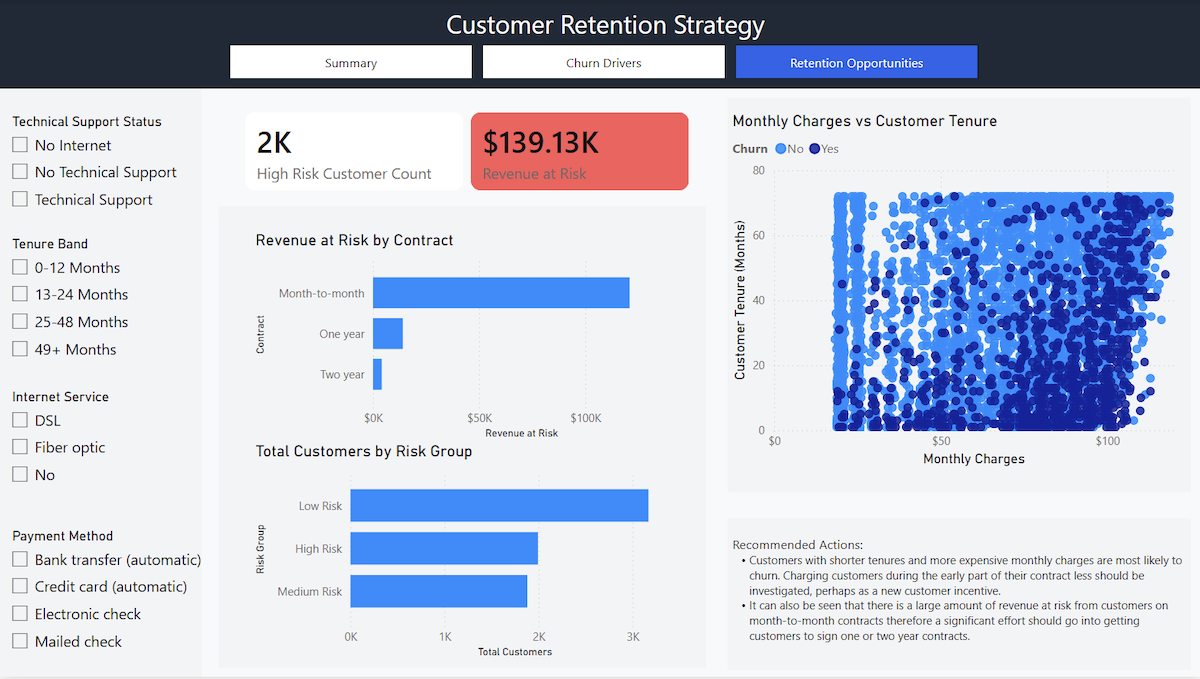

What the dashboard file says about the page in this screenshot:
{"tool":"powerbi","page":{"name":"Retention Opprtunuties","canvas":[1280,720],"ordinal":2},"visuals":[{"type":"shape","box":[0,0,1280.5,94.4],"z":0,"group":"g1"},{"type":"shape","box":[774.2,104.1,492.8,419.6],"z":0},{"type":"textbox","box":[396.9,2.1,494.6,45.9],"z":1000,"group":"g1"},{"type":"shape","box":[232.6,219.6,518.8,491.2],"z":1000},{"type":"pageNavigator","box":[243.5,46.7,798.3,37.1],"z":2000,"group":"g1"},{"type":"scatterChart","title":"Monthly Charges vs Customer Tenure","fields":{"Y":["Telco.tenure"],"Series":["Telco.Churn"],"X":["Telco.MonthlyCharges"]},"box":[774.2,118.7,492.8,382.2],"z":2000},{"type":"clusteredBarChart","fields":{"Category":["Telco.Contract"],"Y":["Telco.Revenue At Risk"]},"box":[266.7,245.6,468.4,226.1],"z":3000},{"type":"clusteredBarChart","fields":{"Category":["Telco.Risk Group"],"Y":["Telco.Total Customers"]},"box":[266.7,470,468.4,234.2],"z":4000},{"type":"group","id":"g1","title":"Group 1","box":[0,0,1280.5,94.4],"z":5000},{"type":"shape","box":[0,94.3,214.7,626.2],"z":6000},{"type":"slicer","fields":{"Values":["Telco.Tech Support Group"]},"box":[14.6,115.5,185.4,130.1],"z":7000},{"type":"slicer","fields":{"Values":["Telco.Tenure Band"]},"box":[14.6,245.6,185.4,151.3],"z":8000},{"type":"slicer","fields":{"Values":["Telco.InternetService"]},"box":[14.6,408.2,185.4,128.5],"z":9000},{"type":"cardVisual","fields":{"Data":["Telco.High Risk Customer Count","Telco.Revenue At Risk"]},"box":[244,102.5,507.4,117.1],"z":10000},{"type":"slicer","fields":{"Values":["Telco.PaymentMethod"]},"box":[14.6,551.4,185.4,152.9],"z":11000},{"type":"shape","box":[774.2,551.4,492.8,161],"z":12000},{"type":"textbox","box":[774.2,564.4,492.8,139.9],"z":13000}]}

Visuals, with their boxes in screenshot pixels (x1, y1, x2, y2), scaled from the page's 1280x720 canvas onto the 1200x679 screenshot:
shape: locate(0, 0, 1199, 89)
shape: locate(726, 98, 1188, 494)
textbox: locate(372, 2, 836, 45)
shape: locate(218, 207, 704, 670)
pageNavigator: locate(228, 44, 977, 79)
"Monthly Charges vs Customer Tenure" scatterChart: locate(726, 112, 1188, 472)
clusteredBarChart - Telco.Contract x Telco.Revenue At Risk: locate(250, 232, 689, 445)
clusteredBarChart - Telco.Risk Group x Telco.Total Customers: locate(250, 443, 689, 664)
"Group 1" group: locate(0, 0, 1199, 89)
shape: locate(0, 89, 201, 678)
slicer - Telco.Tech Support Group: locate(14, 109, 188, 232)
slicer - Telco.Tenure Band: locate(14, 232, 188, 374)
slicer - Telco.InternetService: locate(14, 385, 188, 506)
cardVisual - Telco.High Risk Customer Count x Telco.Revenue At Risk: locate(229, 97, 704, 207)
slicer - Telco.PaymentMethod: locate(14, 520, 188, 664)
shape: locate(726, 520, 1188, 672)
textbox: locate(726, 532, 1188, 664)
